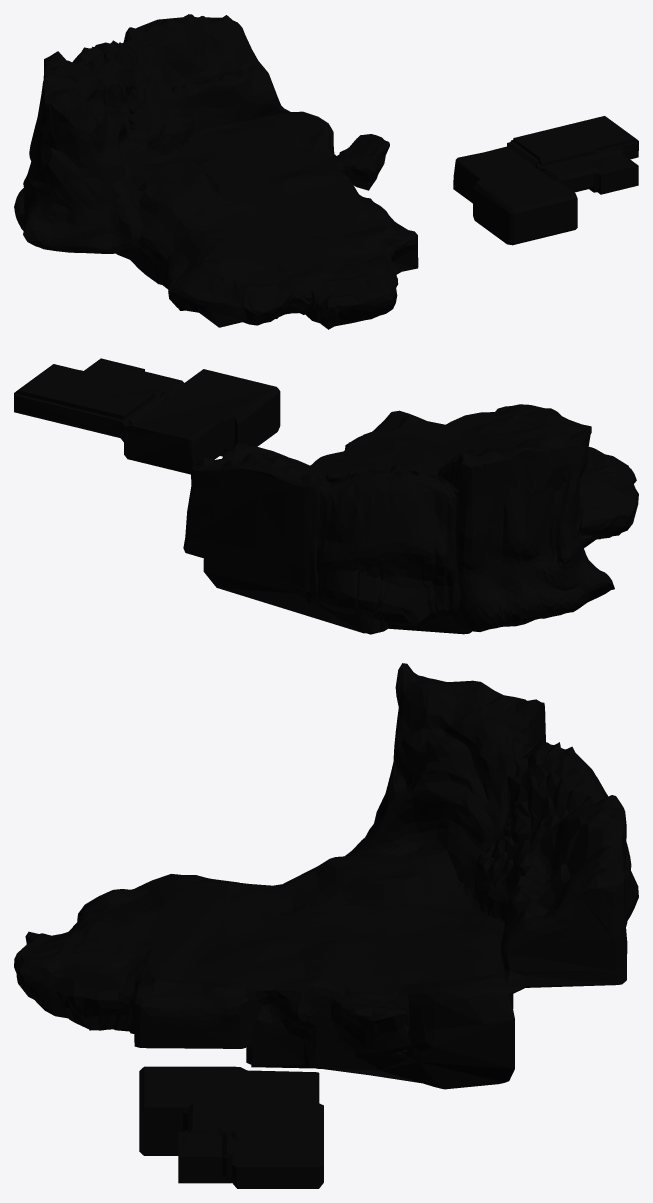
The model's file is freeroam3.glb.
3 renders of one model, top to bottom at view 1: azimuth 30°, elevation 25°; view 2: azimuth 150°, elevation 25°; view 3: azimuth 270°, elevation 25°, orthographic. The views are drawn at different scales.
Visible parts, largest first — view 1: FreeroamMesh; view 2: FreeroamMesh; view 3: FreeroamMesh.
Boxes of the visible parts, x1,y1,x2,y2 form: FreeroamMesh: (14,14,638,329); FreeroamMesh: (14,358,638,634); FreeroamMesh: (14,663,638,1188).
Bounding box in the file's own units: 175 × 56.75 × 129.
Materials: 1 (1 with a texture image).
